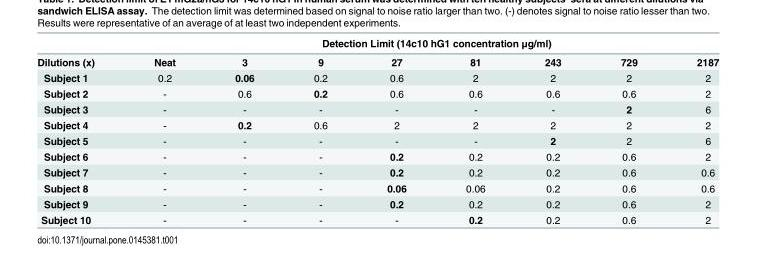table: (36, 36, 718, 225)
table column: (36, 36, 123, 225), (123, 36, 204, 225), (204, 36, 283, 225), (356, 36, 435, 225), (435, 36, 514, 225), (514, 36, 590, 225), (590, 36, 666, 225), (283, 36, 356, 225), (666, 36, 718, 225)
table column header: (36, 36, 718, 69)
table row: (36, 51, 718, 69), (36, 69, 718, 85), (36, 100, 718, 116), (36, 116, 718, 132), (36, 132, 718, 148), (36, 148, 718, 164), (36, 179, 718, 195), (36, 195, 718, 211), (36, 36, 718, 51), (36, 85, 718, 100), (36, 164, 718, 179), (36, 211, 718, 225)
table spanning cell: (123, 36, 718, 51), (36, 36, 123, 69)
